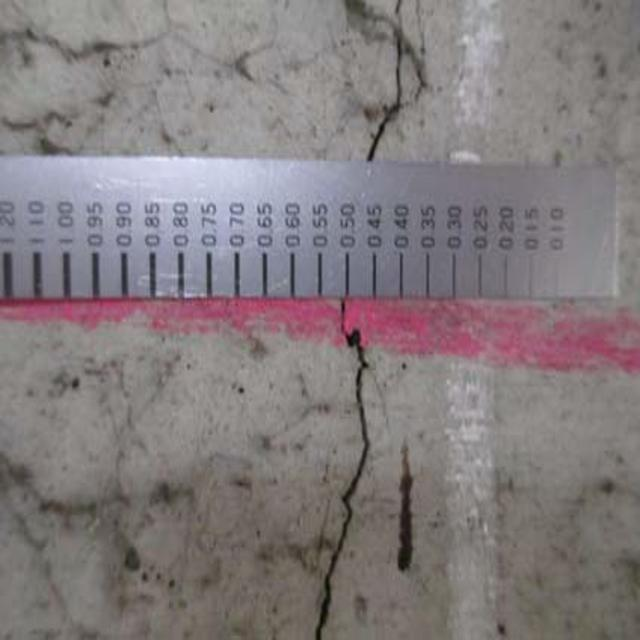crack: (297, 294, 432, 640), (352, 0, 445, 161)
